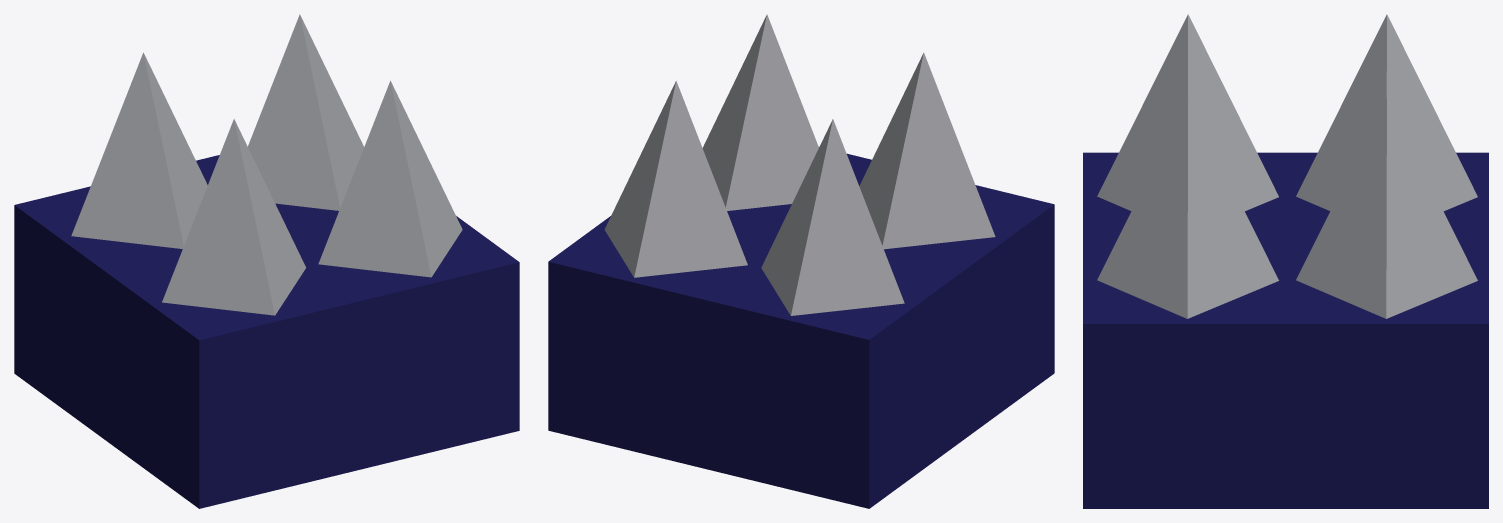
File: Needle_Small.obj
The picture shows the model from 3 angles, left to right: view 1: azimuth 30°, elevation 25°; view 2: azimuth 150°, elevation 25°; view 3: azimuth 270°, elevation 25°; orthographic projection. The views are drawn at different scales.
Visible parts, largest first — view 1: Cube; view 2: Cube; view 3: Cube.
Part boxes in pixels (left/top/right/bottom): Cube: left=14, top=14, right=519, bottom=508; Cube: left=548, top=14, right=1054, bottom=508; Cube: left=1083, top=14, right=1488, bottom=508.
Size of the model in its own units: 1 by 1 by 1.
Materials: 1 (1 with a texture image).
